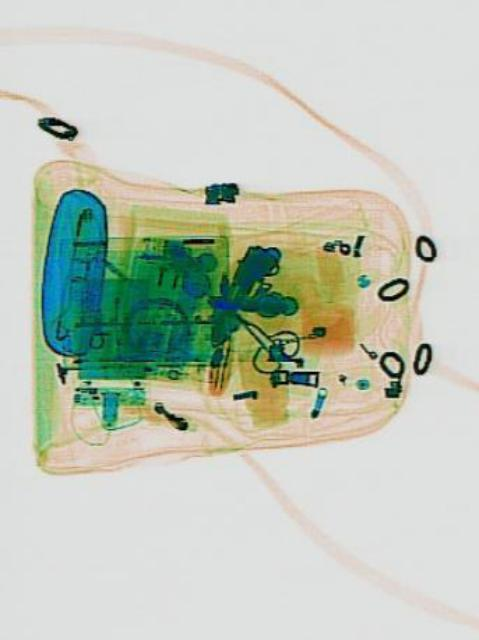Scissors: (215, 282, 302, 388)
